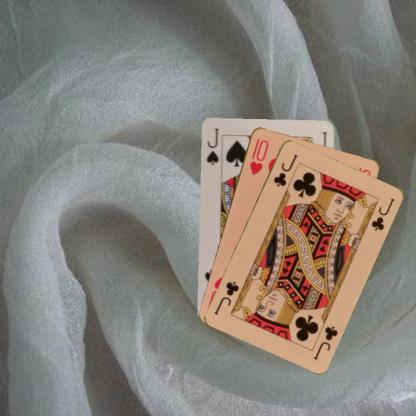10h: (247, 135, 270, 176)
Jc: (270, 151, 300, 188), (311, 323, 339, 361)
Js: (204, 126, 220, 166)
